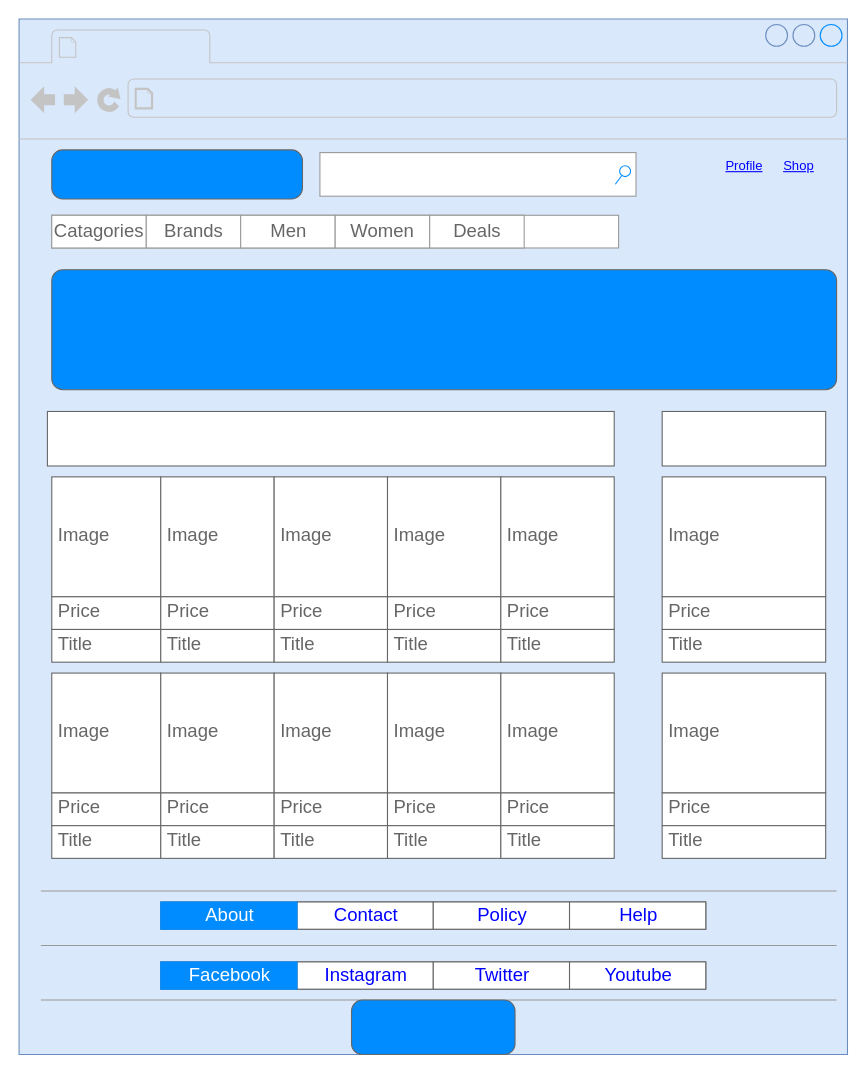
This 867x1074 diagram has some shape labels left out. Each missing label, with the box of its shape:
Adds Here: (51, 305, 837, 354)
Aside Deals: (661, 410, 826, 466)
DesiCart @2020: (350, 999, 515, 1055)
DesiCart Logo: (51, 149, 302, 199)
Home: (83, 31, 204, 60)
https://desicart.000webhostapp.com/index.html: (160, 83, 433, 113)
Offers: (46, 410, 614, 466)
Search: (319, 152, 636, 196)
